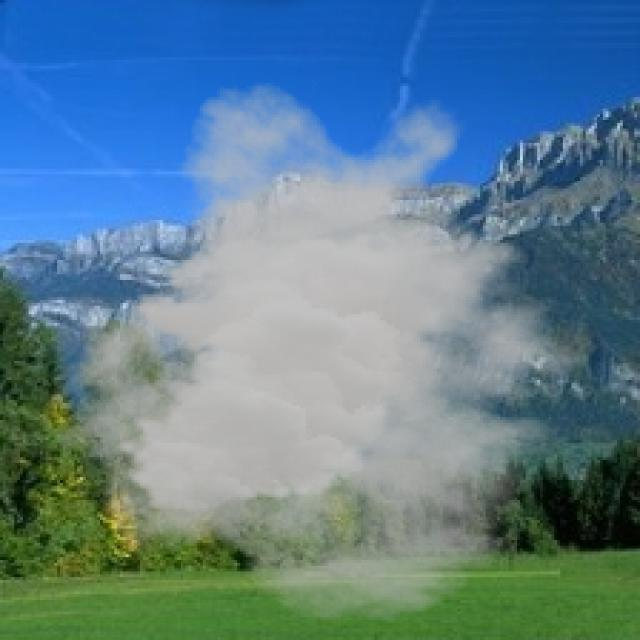smoke: (55, 80, 614, 623)
